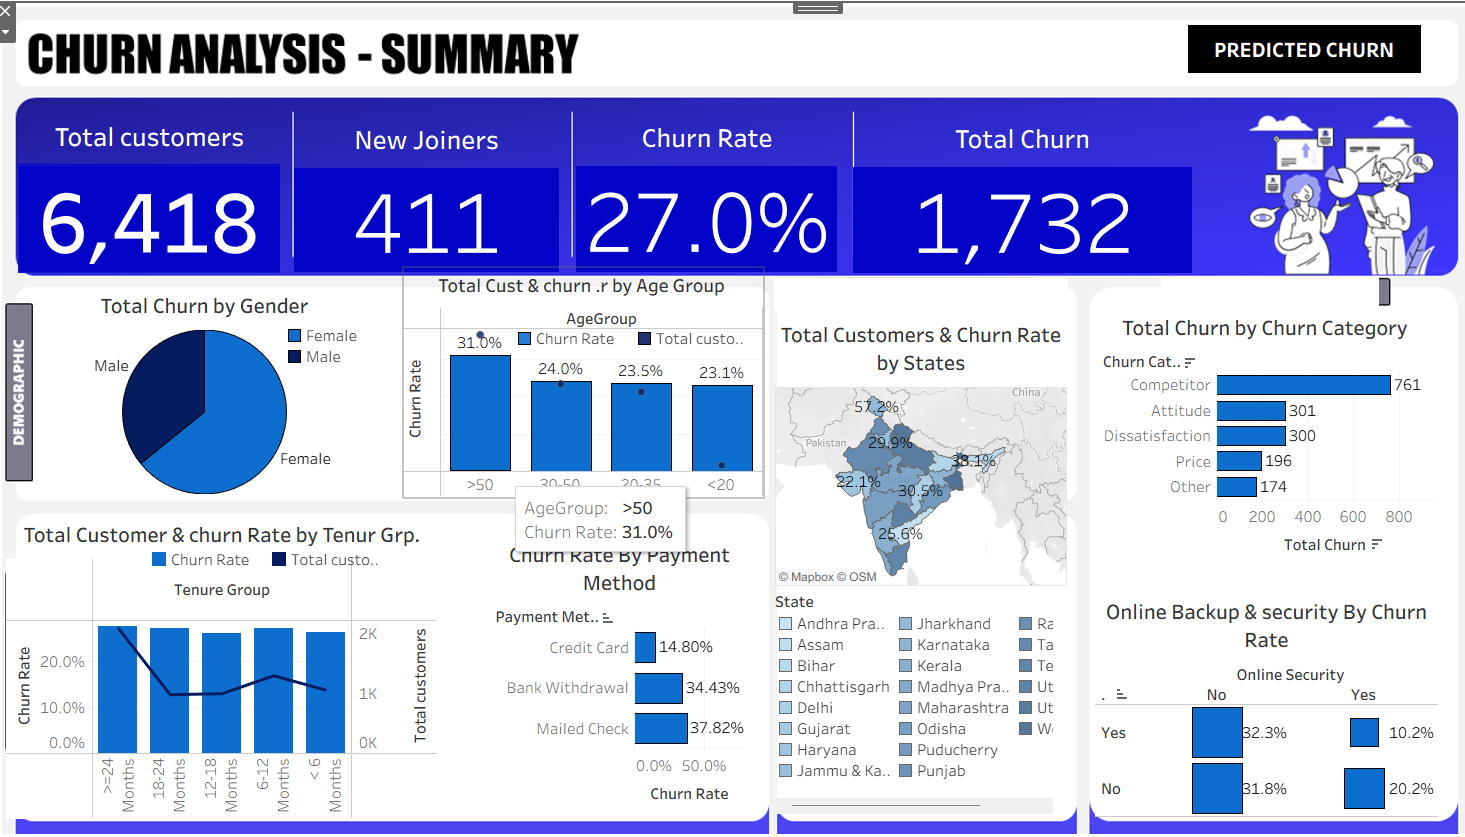

Layout of this report page (visuals, bound fields, positions):
{"tool":"tableau","page":{"name":"Dashboard 3","canvas":[1000,1000],"units":"permille","ordinal":0},"visuals":[{"type":"image","param":"Image/Summary.PNG","box":[4.8,9.4,990.3,981.2]},{"type":"dashboard-object","box":[723.1,35.2,140.6,56.4]},{"type":"worksheet","title":"Sheet 2","mark":"Automatic","box":[16.8,141,158.5,185.7]},{"type":"worksheet","title":"Sheet 23","mark":"Automatic","box":[353.5,142.2,157.9,183.3]},{"type":"worksheet","title":"Sheet 24","mark":"Automatic","box":[520.9,143.4,204.6,183.3]},{"type":"worksheet","title":"Sheet 22","mark":"Automatic","box":[183.6,144.5,159.7,181]},{"type":"worksheet","title":"Sheet 1","mark":"Line","rows":["Calculation_990791928854528005","Calculation_990791928847933442"],"cols":["Calculation_1004302728058294273"],"box":[249.7,320.8,216.6,269.1]},{"type":"blank","box":[706.9,331.4,131.6,35.2]},{"type":"blank","box":[473.1,332.6,177.6,38.8]},{"type":"worksheet","title":"Sheet 4","mark":"Pie","box":[28.4,343.1,202.4,243.2]},{"type":"worksheet","title":"Sheet 9","mark":"Automatic","rows":["Churn_Category"],"cols":["Calculation_990791928852504580"],"box":[667.5,369,204,297.3]},{"type":"worksheet","title":"Sheet 11","mark":"Multipolygon","box":[473.7,377.2,176.4,317.3]},{"type":"legend","title":"Sheet 4","param":"[federated.1gqypwz0b42dtm1e6kq7t0w253hn].[none:Gender:nk]","box":[177.5,387.8,52.7,87]},{"type":"legend","title":"Sheet 1","param":"[federated.1gqypwz0b42dtm1e6kq7t0w253hn].[:Measure Names]","box":[316,391.3,158,24.7]},{"type":"worksheet","title":"Sheet 7","mark":"Bar","rows":["Calculation_990791928854528005","Calculation_990791928847933442"],"cols":["Calculation_1004302728106905603"],"box":[9.6,612.2,260.8,356.1]},{"type":"worksheet","title":"Sheet 5","mark":"Automatic","rows":["Payment_Method"],"cols":["Calculation_990791928854528005"],"box":[304.1,635.7,151.5,323.2]},{"type":"legend","title":"Sheet 7","param":"[federated.1gqypwz0b42dtm1e6kq7t0w253hn].[:Measure Names]","box":[95.9,651,163.3,27]},{"type":"legend","title":"Sheet 11","param":"[federated.1gqypwz0b42dtm1e6kq7t0w253hn].[none:State:nk]","box":[473.7,700.4,169.3,262]},{"type":"worksheet","title":"Sheet 10","mark":"Automatic","rows":["Online_Backup"],"cols":["Online_Security"],"box":[666.9,702.7,206.9,263.2]}]}

Visuals, with their boxes on the dashboard's canvas, which has no fixed pixel size, in thousandths of its width and height (x1, y1, x2, y2). These are canvas units, not pixel positions in the 1465x837 screenshot, which may show the page scaled, cropped or inside an application window:
image: (left=5, top=9, right=995, bottom=991)
dashboard-object: (left=723, top=35, right=864, bottom=92)
"Sheet 2" worksheet: (left=17, top=141, right=175, bottom=327)
"Sheet 23" worksheet: (left=354, top=142, right=511, bottom=326)
"Sheet 24" worksheet: (left=521, top=143, right=726, bottom=327)
"Sheet 22" worksheet: (left=184, top=144, right=343, bottom=326)
"Sheet 1" worksheet (Line marks): (left=250, top=321, right=466, bottom=590)
blank: (left=707, top=331, right=838, bottom=367)
blank: (left=473, top=333, right=651, bottom=371)
"Sheet 4" worksheet (Pie marks): (left=28, top=343, right=231, bottom=586)
"Sheet 9" worksheet: (left=668, top=369, right=872, bottom=666)
"Sheet 11" worksheet (Multipolygon marks): (left=474, top=377, right=650, bottom=694)
"Sheet 4" legend: (left=178, top=388, right=230, bottom=475)
"Sheet 1" legend: (left=316, top=391, right=474, bottom=416)
"Sheet 7" worksheet (Bar marks): (left=10, top=612, right=270, bottom=968)
"Sheet 5" worksheet: (left=304, top=636, right=456, bottom=959)
"Sheet 7" legend: (left=96, top=651, right=259, bottom=678)
"Sheet 11" legend: (left=474, top=700, right=643, bottom=962)
"Sheet 10" worksheet: (left=667, top=703, right=874, bottom=966)
